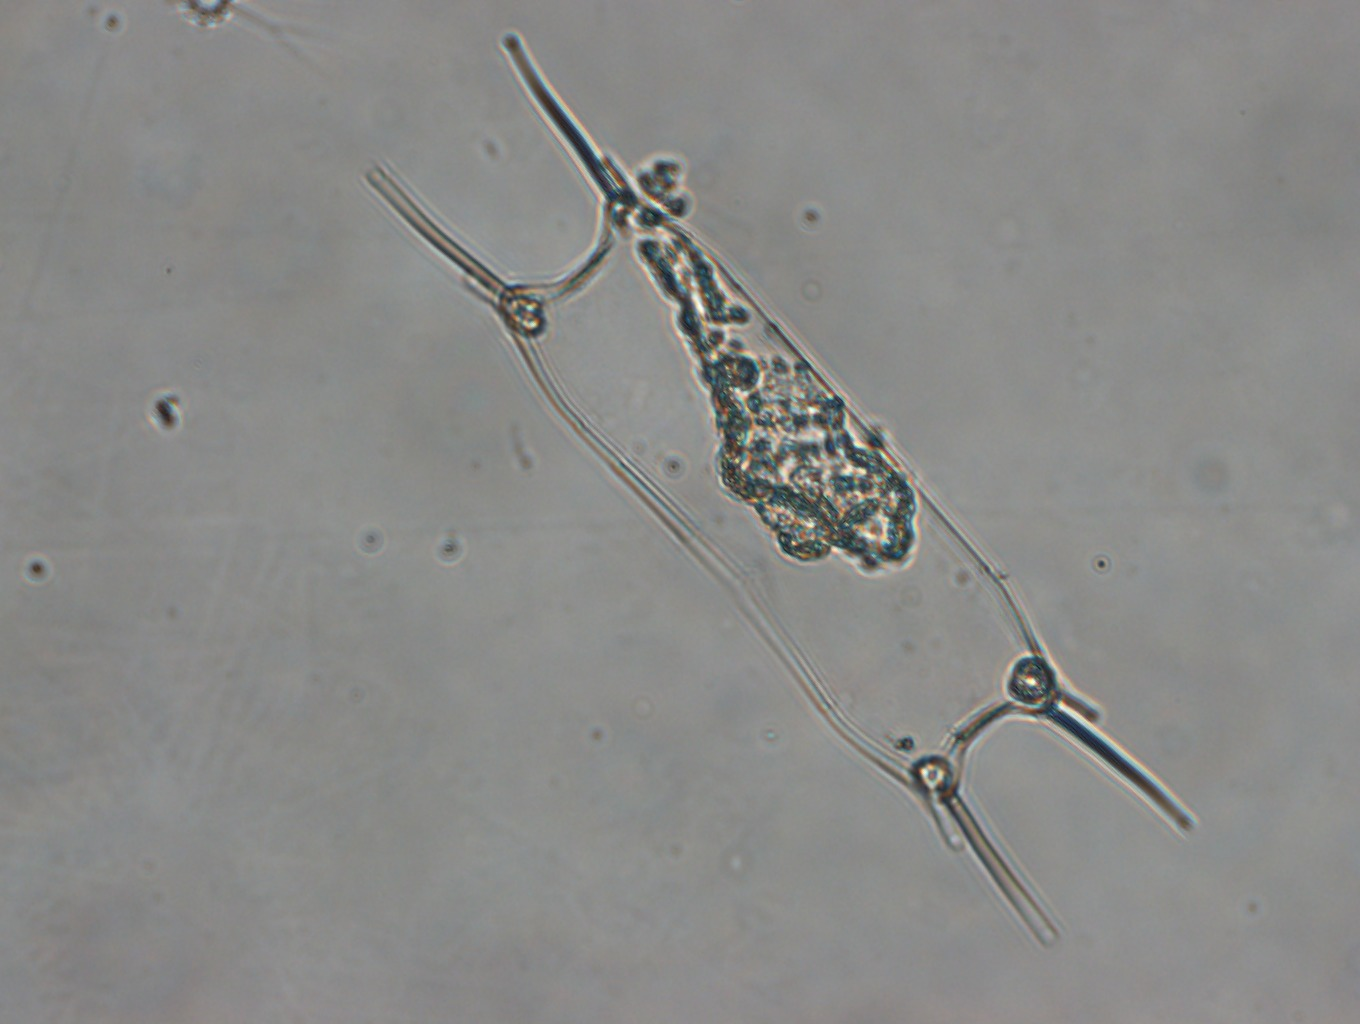biddulphia: (359, 25, 1196, 945)
